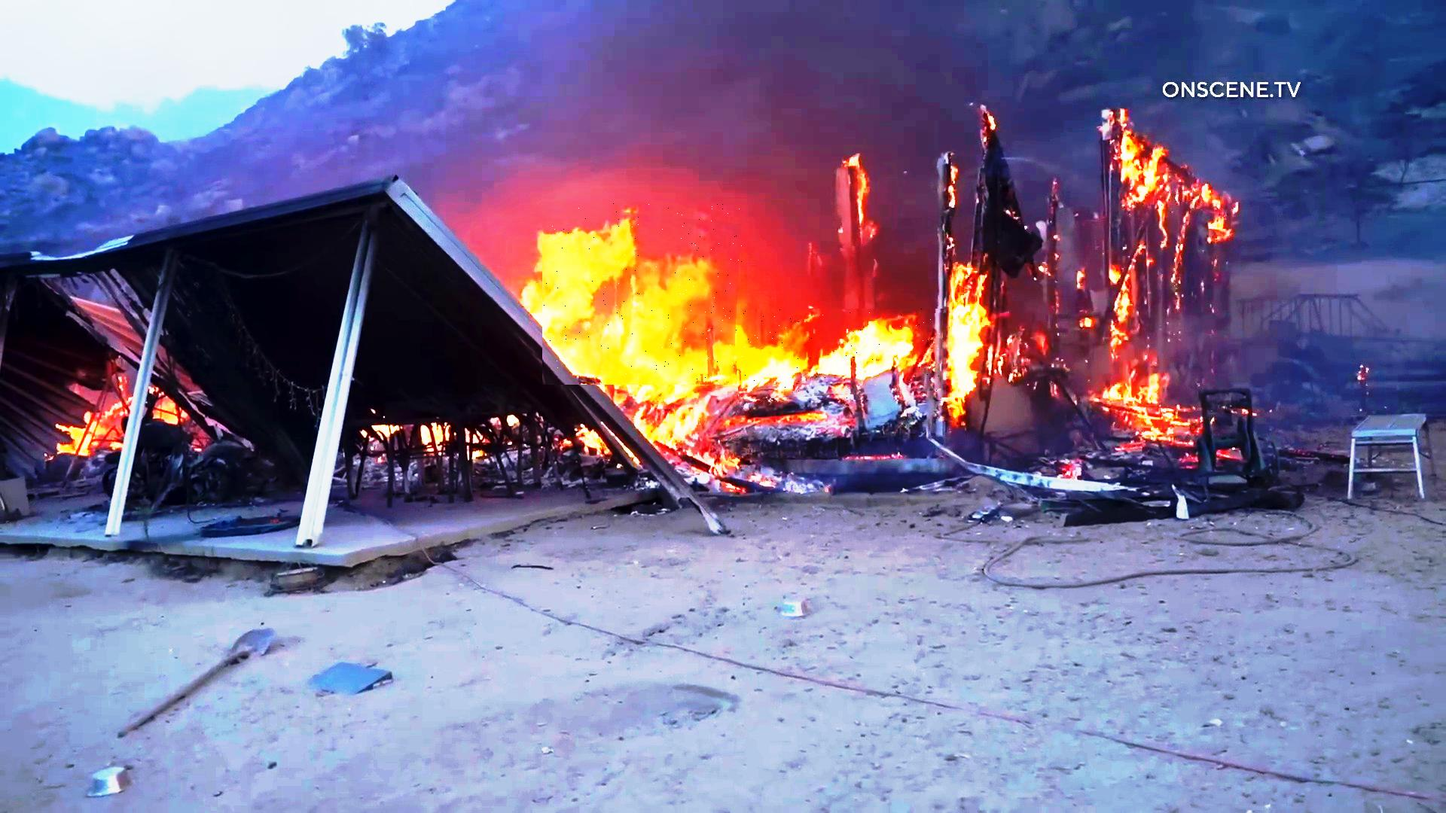fire: (543, 203, 743, 385), (739, 309, 946, 400)
